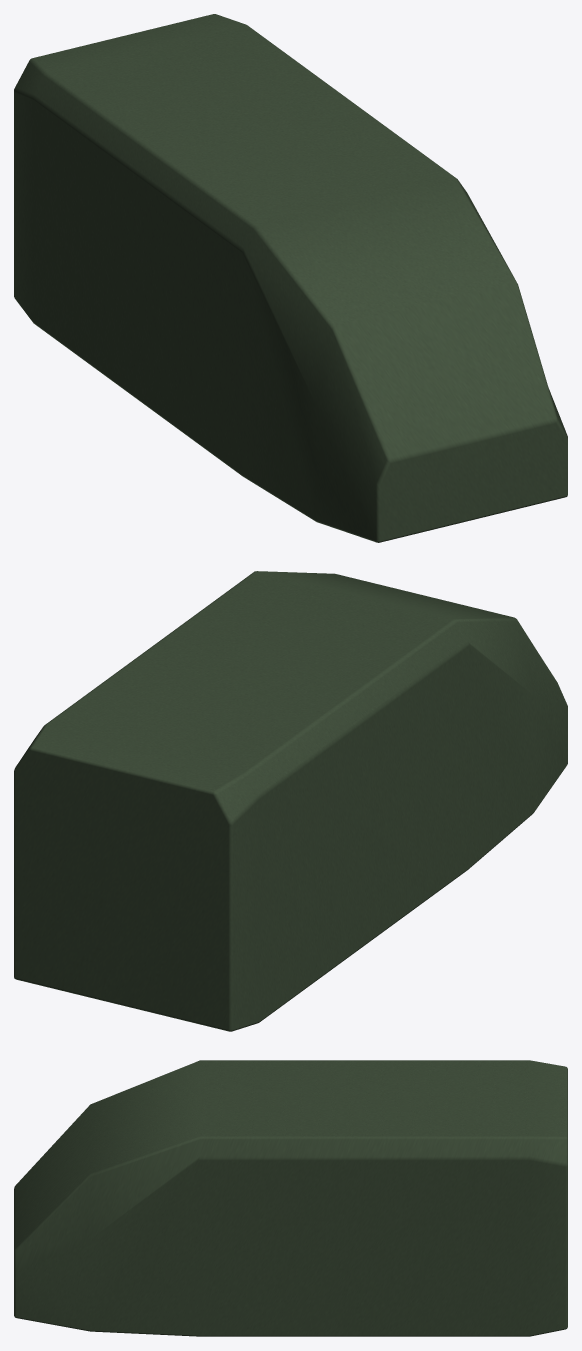
The picture shows the model from 3 angles, top to bottom: view 1: azimuth 30°, elevation 25°; view 2: azimuth 150°, elevation 25°; view 3: azimuth 270°, elevation 25°; orthographic projection. The views are drawn at different scales.
Size of the model in its own units: 2.16 by 2.26 by 5.8.
Materials: 1 (1 with a texture image).
